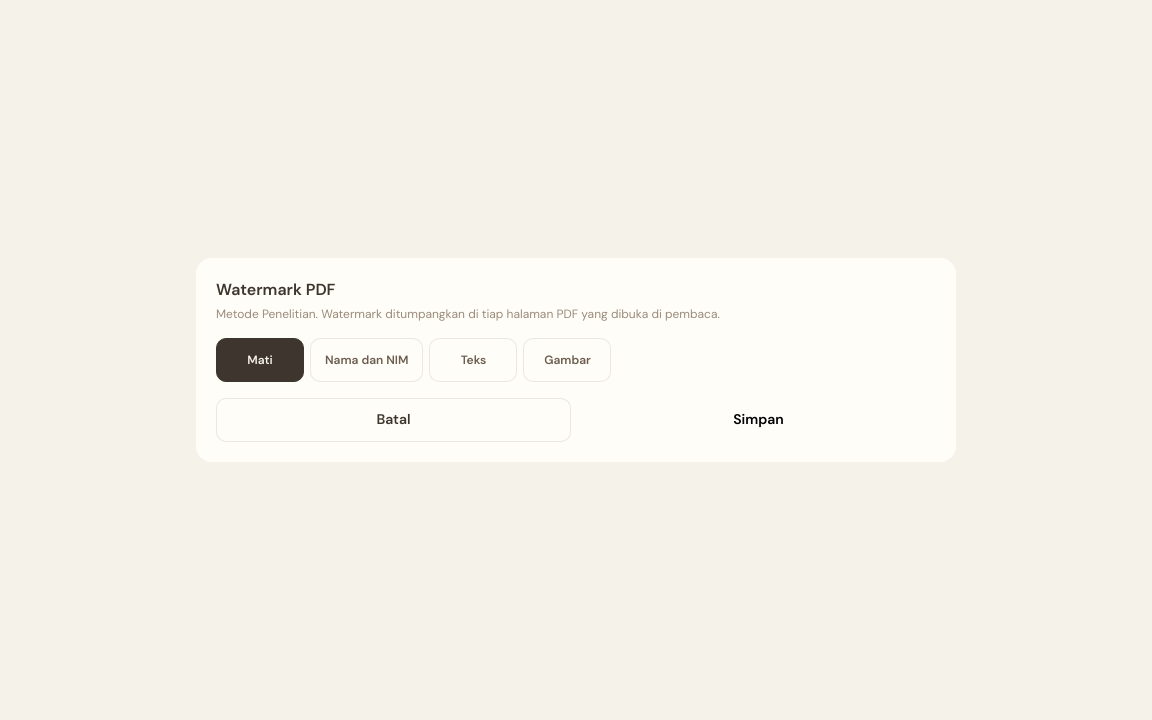
it: WatermarkModal › kolom v35 belum ada: pesan menyebut berkas migrasinya, modal tetap terbuka
Click the button "Teks": (474, 360) [430,338,518,382]
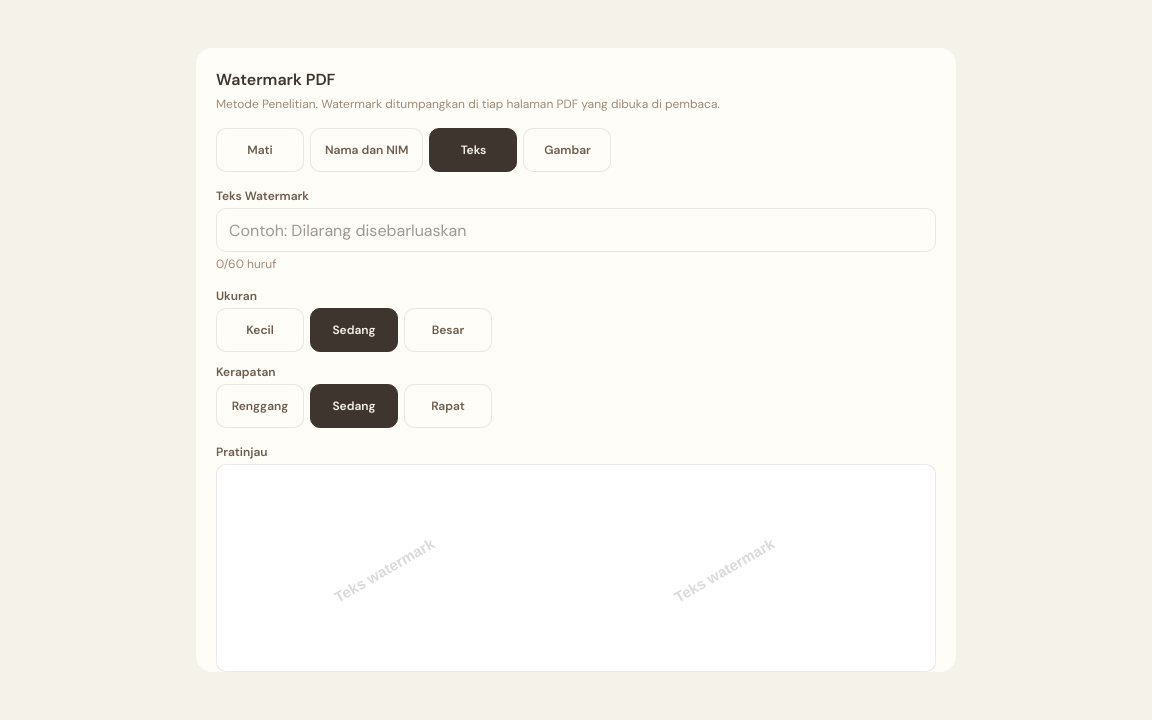
In the field labelled "Teks Watermark 0/60 huruf": (576, 230) [216,208,936,252], type "A"
(page scrolled)
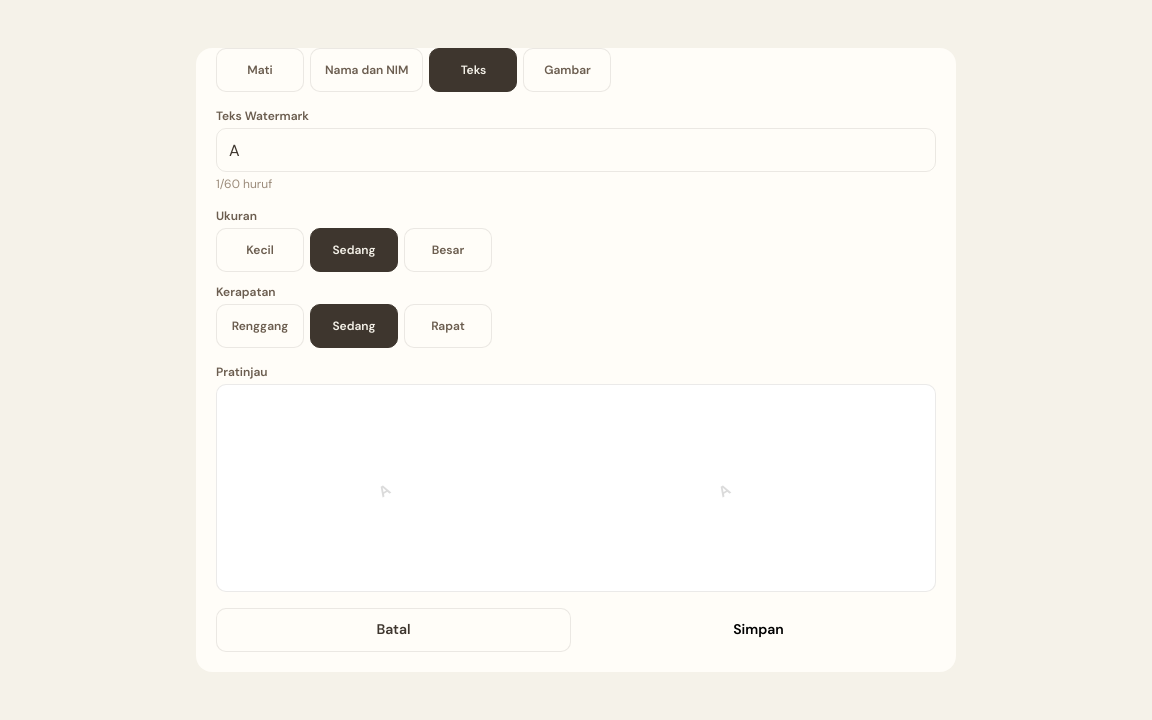
Click the button "Simpan": (758, 630) [581,608,936,652]
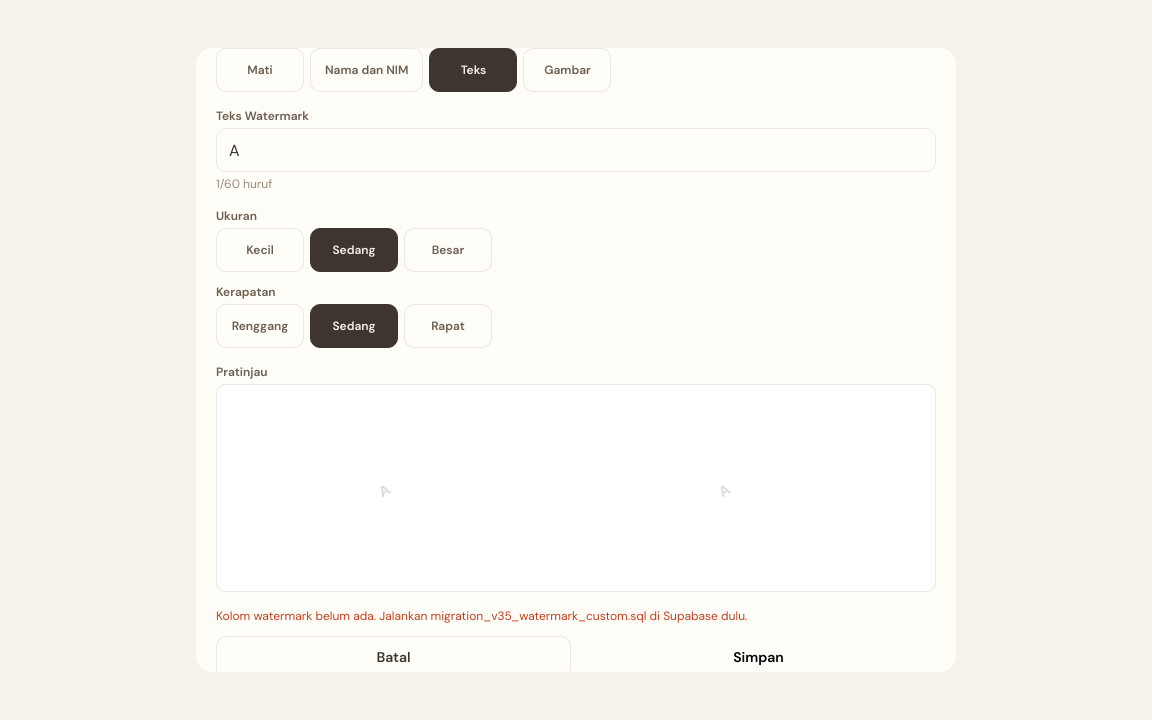
Now the text "migration_v35_watermark_custom.sql" is shown, box [216,608,747,624]
